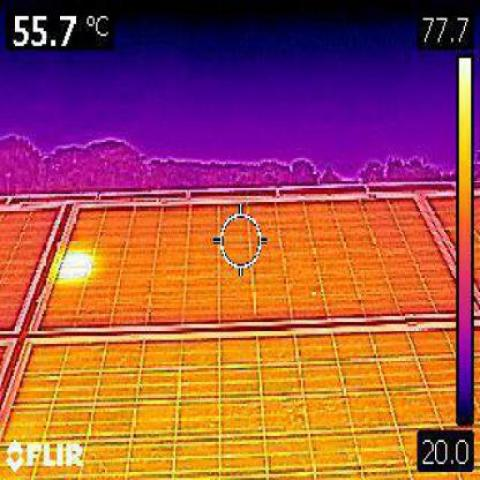fault: (59, 249, 90, 281)
